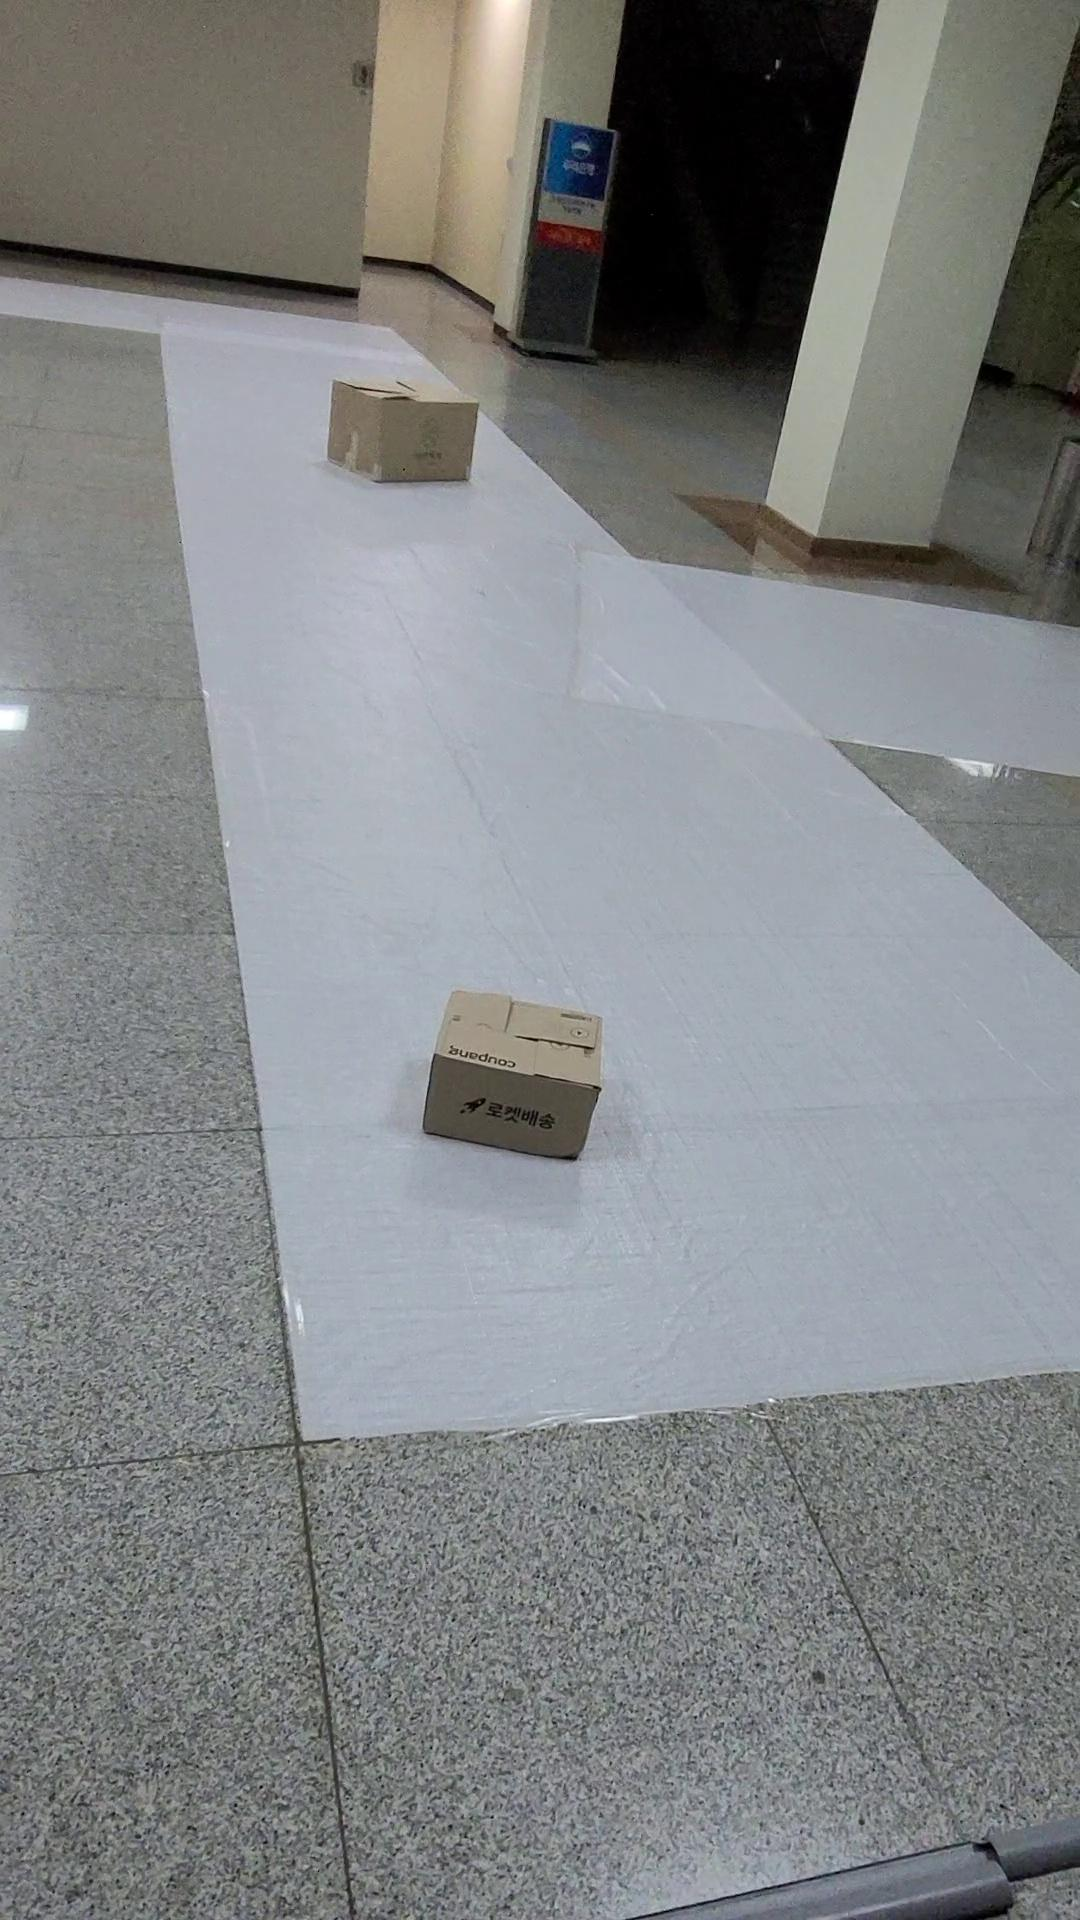Box: (407, 938, 647, 1178), (303, 371, 492, 525)
